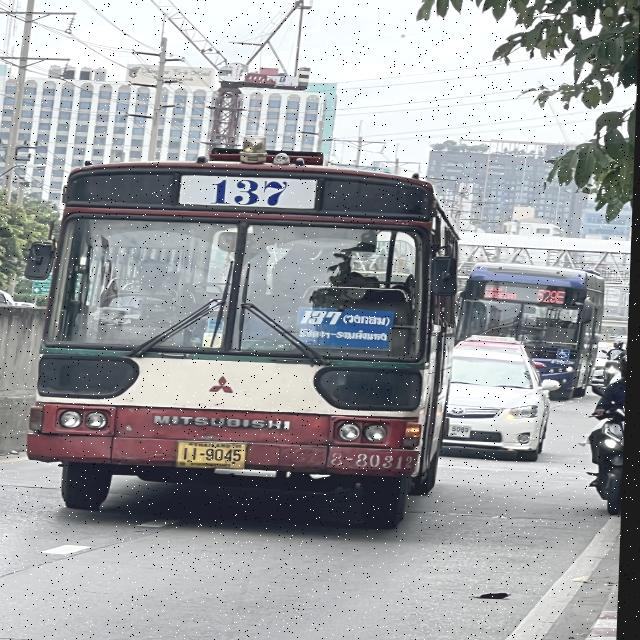BMTA-bus: (28, 161, 461, 531)
Bus Line Number: (201, 173, 297, 215), (532, 286, 572, 308)
Bus Side Number: (327, 449, 422, 474), (554, 354, 578, 369)
Destination Sign: (296, 305, 398, 351), (482, 284, 524, 300)
TSB-Bus: (460, 263, 606, 404)
